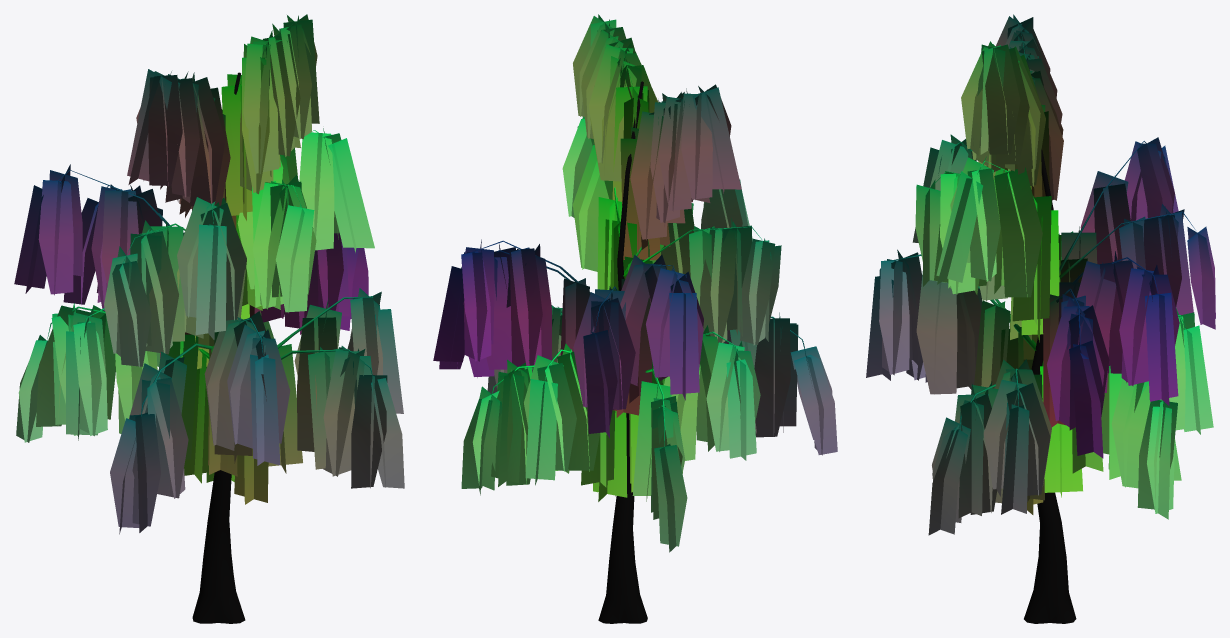
File: Tree_7_5.fbx
3 renders of one model, left to right at view 1: azimuth 30°, elevation 25°; view 2: azimuth 150°, elevation 25°; view 3: azimuth 270°, elevation 25°, orthographic. The views are drawn at different scales.
Parts seen in each view (by area): view 1: _5; view 2: _5; view 3: _5.
Boxes of the visible parts, <box> form: _5: <box>14,14,404,623</box>; _5: <box>433,14,837,623</box>; _5: <box>866,14,1215,623</box>.
Size of the model in its own units: 966 by 1677 by 893.
